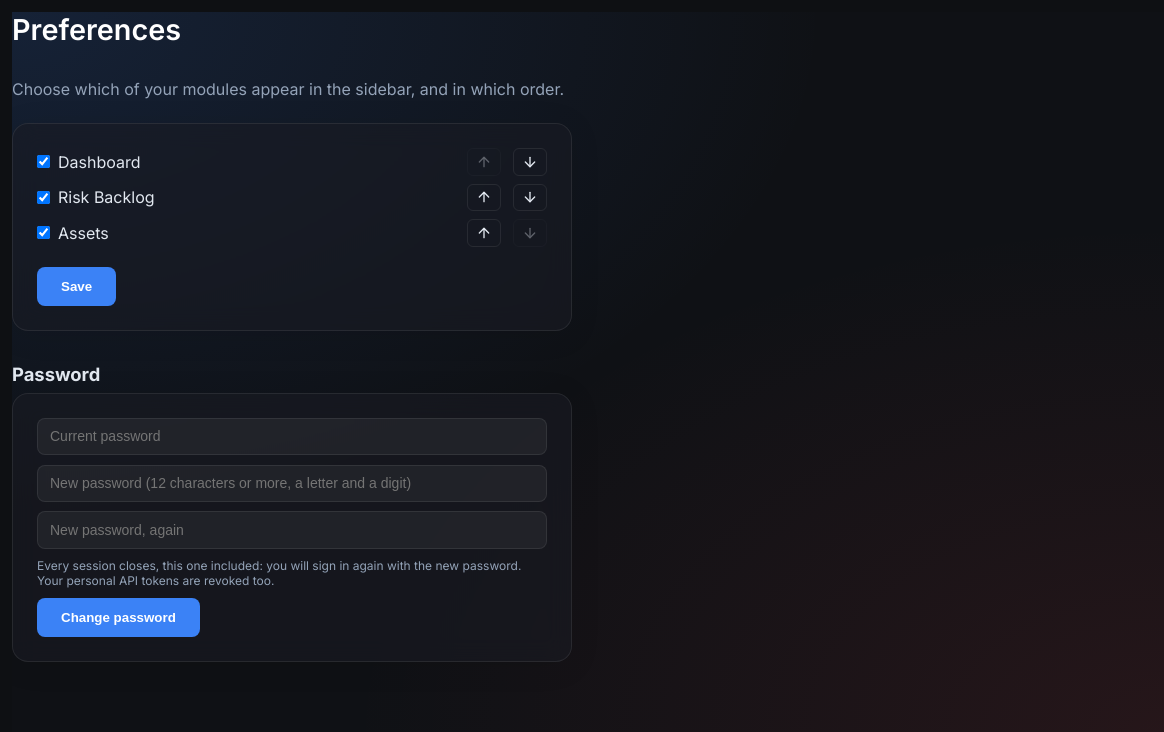
Test case: Preferences › reports a refused save and keeps the draft
Click the checkbox named "Show Assets in the sidebar": (44, 233) [37,226,50,240]
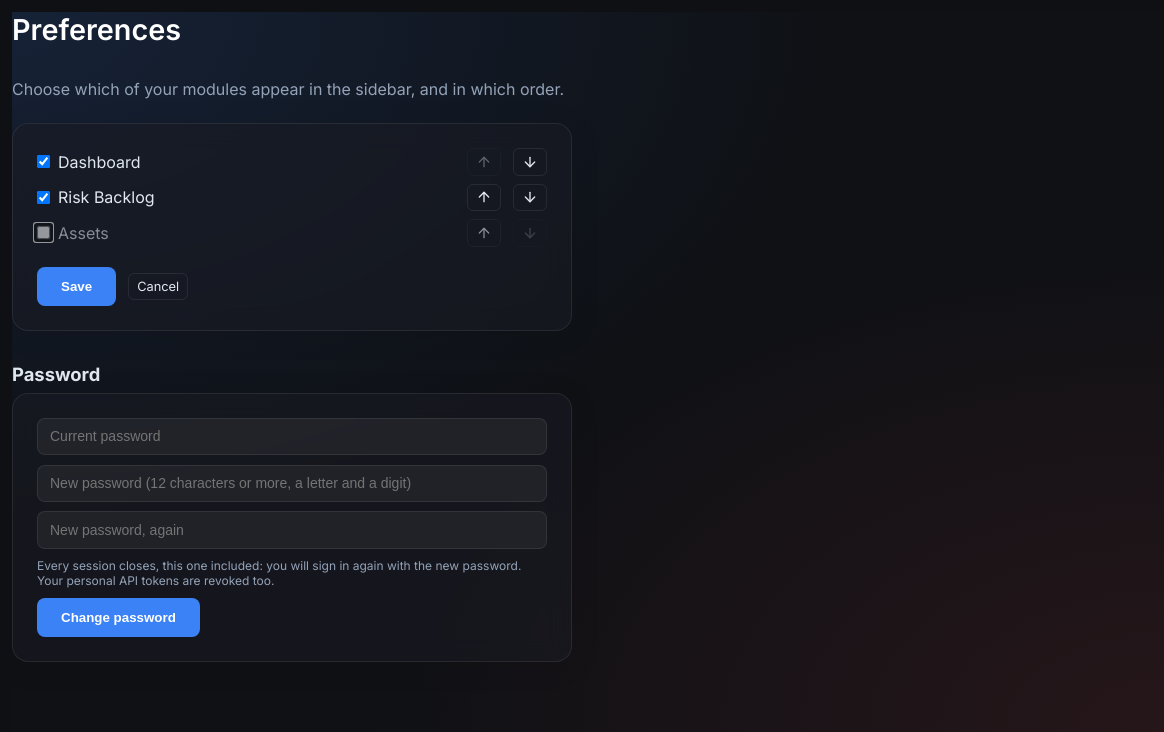
Click the button "Save": (77, 286) [37,267,116,306]
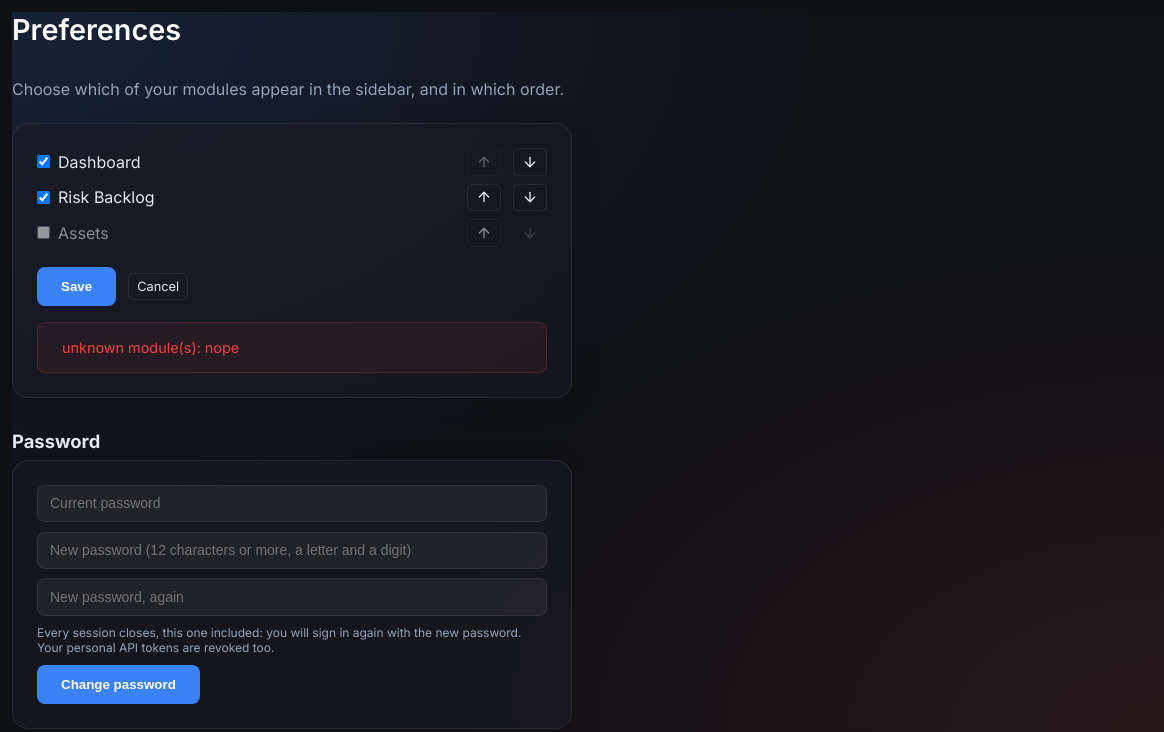
Check: the text "unknown module(s): nope" is shown, box [37,322,547,373]
